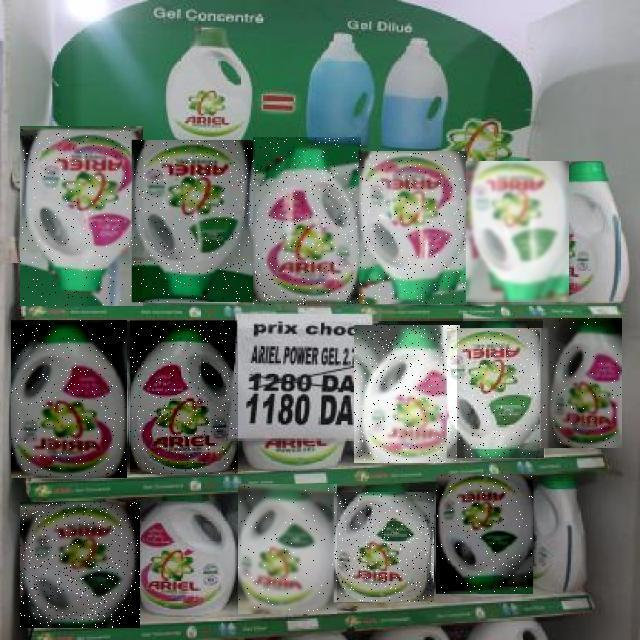Detergent: (20, 126, 143, 306), (132, 141, 254, 303), (11, 320, 127, 478), (253, 138, 361, 306), (130, 320, 238, 474), (359, 151, 467, 304), (20, 503, 140, 629), (354, 325, 460, 463), (466, 162, 569, 304), (448, 328, 548, 458), (238, 484, 337, 614), (436, 474, 533, 594), (335, 492, 435, 602), (543, 318, 622, 448)
